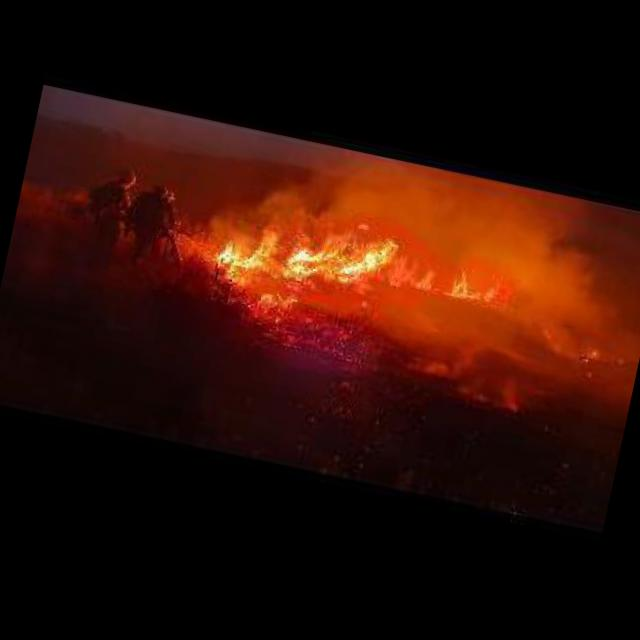fire: (204, 210, 504, 326), (255, 283, 299, 310), (590, 347, 598, 359)
